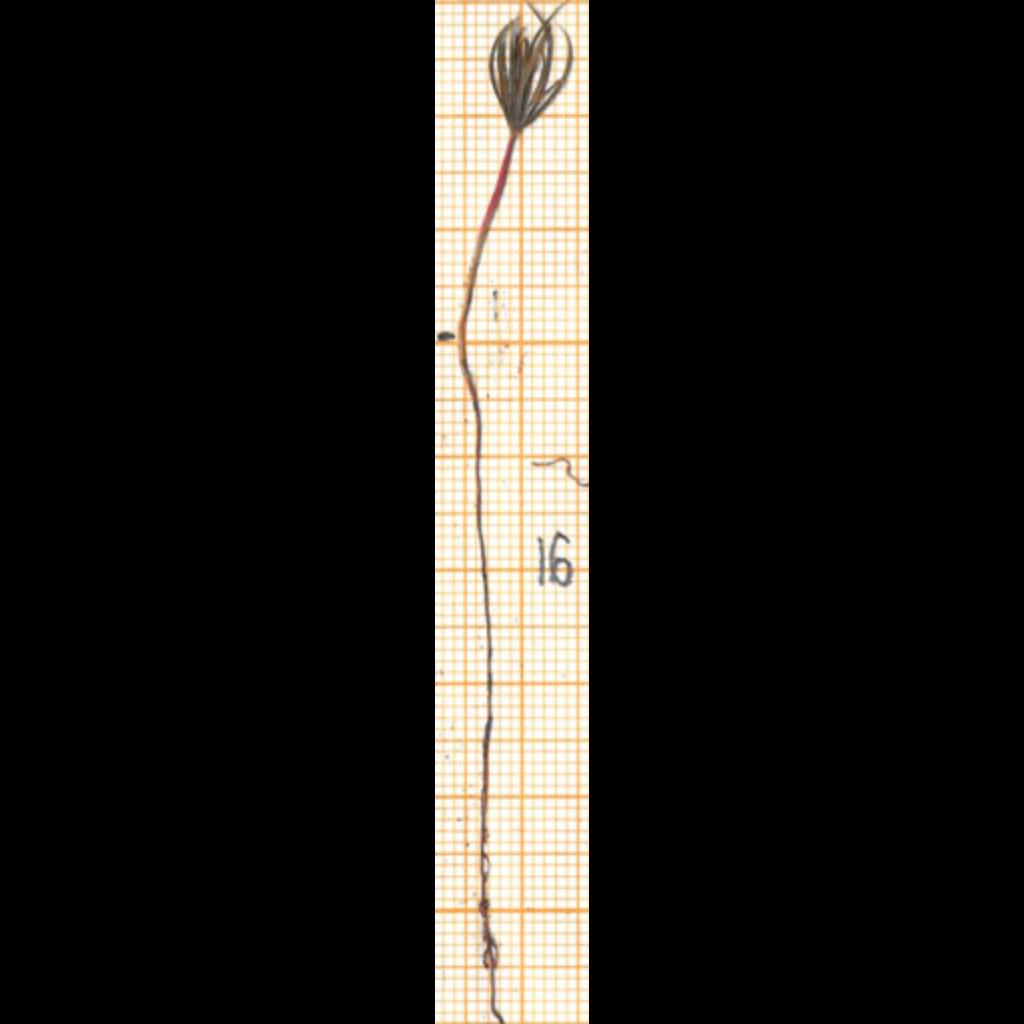flowerPinus: (489, 11, 572, 136)
rootPinus: (459, 352, 502, 1023)
stemPinus: (457, 133, 514, 355)
